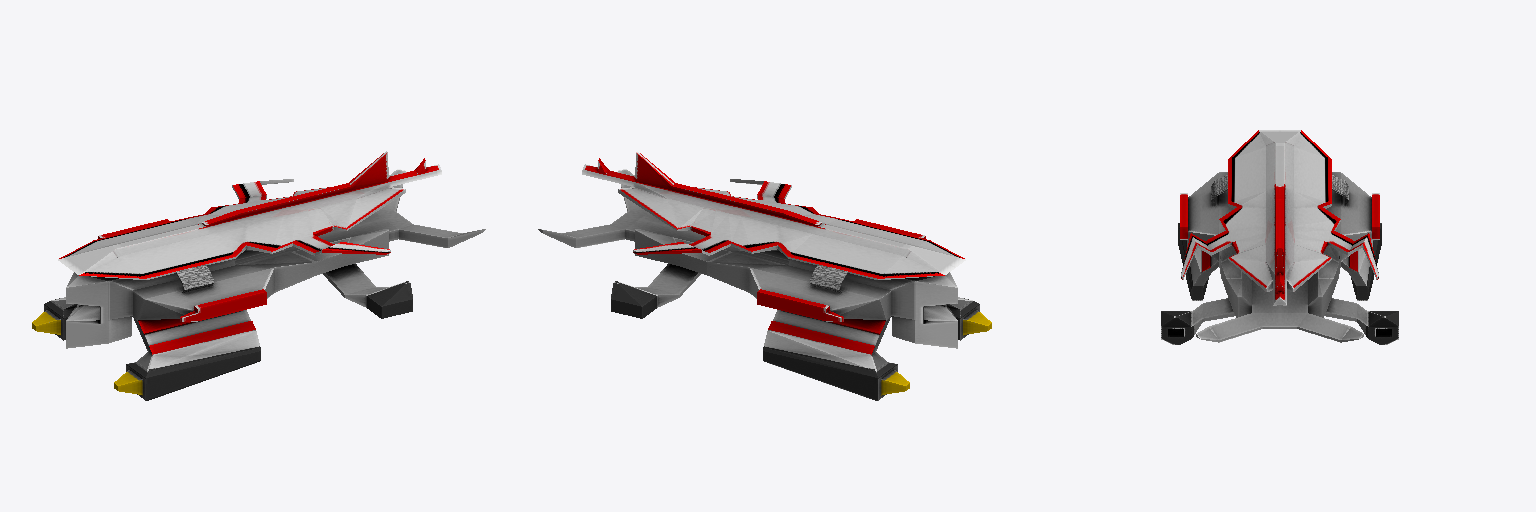
3 renders of one model, left to right at view 1: azimuth 30°, elevation 25°; view 2: azimuth 150°, elevation 25°; view 3: azimuth 270°, elevation 25°, orthographic.
Visible parts, largest first — view 1: acorazado_Cube.003; view 2: acorazado_Cube.003; view 3: acorazado_Cube.003.
Boxes of the visible parts, x1,y1,x2,y2 form: acorazado_Cube.003: [32, 151, 485, 400]; acorazado_Cube.003: [538, 151, 991, 400]; acorazado_Cube.003: [1161, 130, 1398, 344].
Bounding box in the file's own units: 16.4 × 5.94 × 8.9.
1 materials, 1 textured.